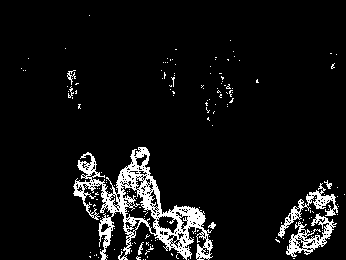person: (112, 143, 163, 260), (277, 178, 340, 258), (72, 151, 117, 260)
